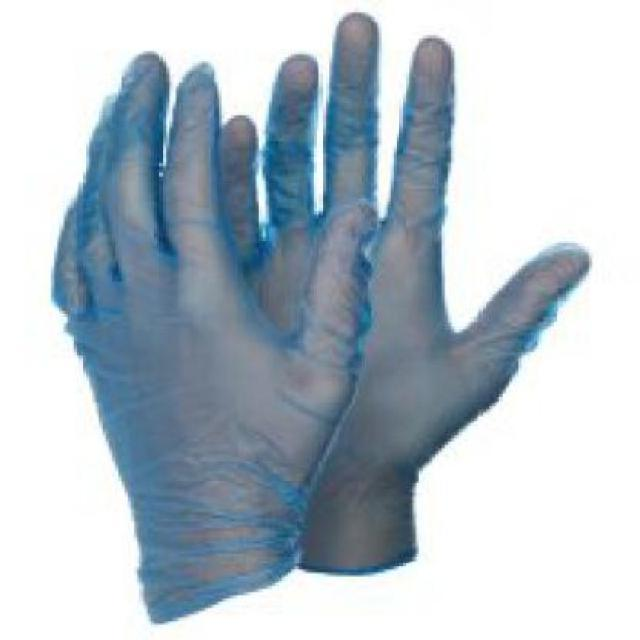gloved_hand: (53, 8, 599, 626)
